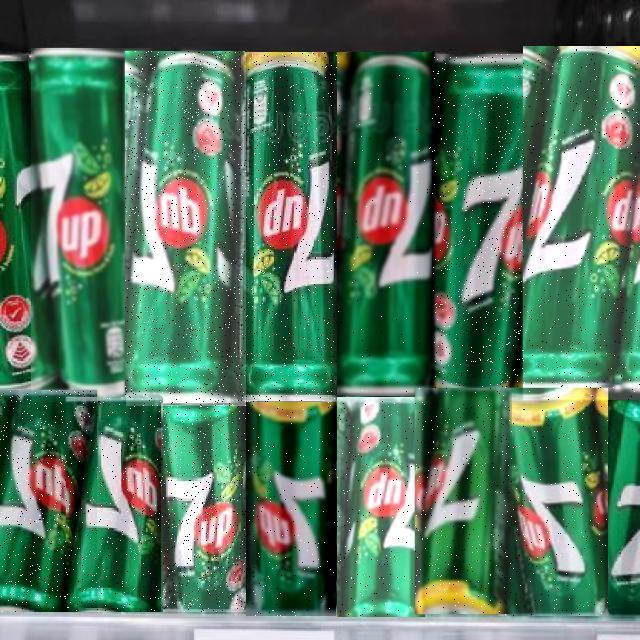Drinks: (31, 49, 151, 403), (126, 52, 246, 406), (523, 46, 640, 400), (432, 54, 545, 397), (238, 52, 337, 406), (337, 52, 435, 396), (498, 389, 608, 617), (416, 388, 514, 614), (0, 391, 97, 613), (66, 397, 163, 612), (161, 400, 257, 612), (337, 397, 425, 617), (246, 402, 336, 616)
